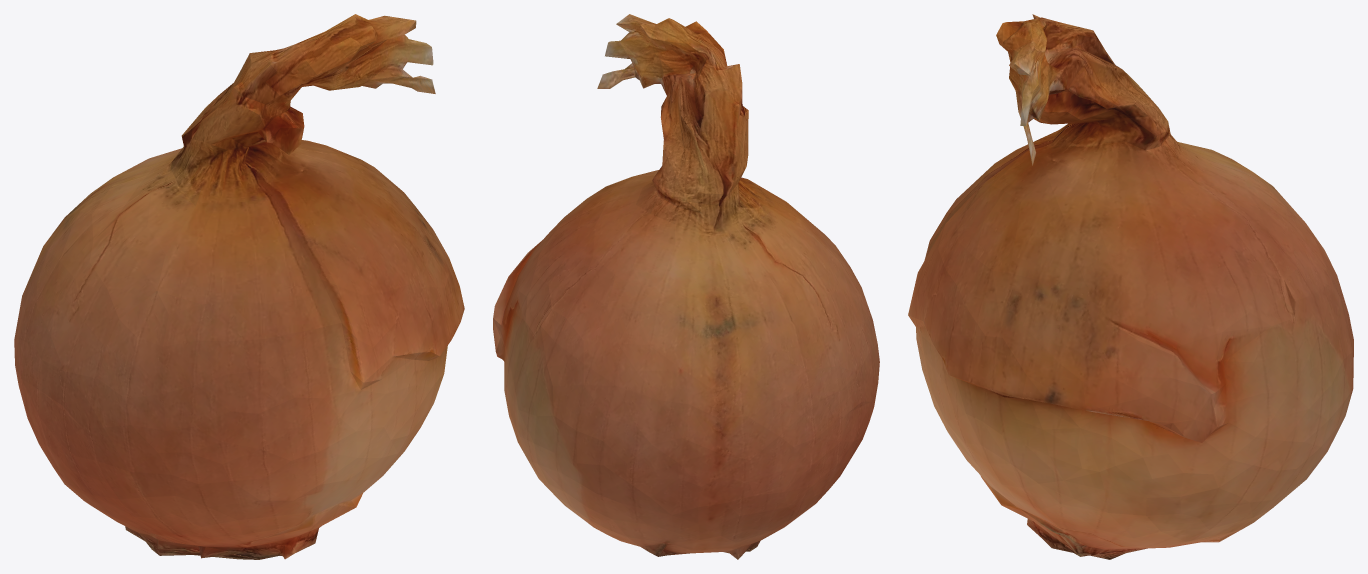
Rendered from realonion.glb.
3 renders of one model, left to right at view 1: azimuth 30°, elevation 25°; view 2: azimuth 150°, elevation 25°; view 3: azimuth 270°, elevation 25°, orthographic. The views are drawn at different scales.
Visible parts, largest first — view 1: Object_2; view 2: Object_2; view 3: Object_2.
Boxes of the visible parts, x1,y1,x2,y2 form: Object_2: [14, 14, 464, 559]; Object_2: [493, 14, 879, 559]; Object_2: [908, 14, 1353, 559].
Size of the model in its own units: 0.0582 by 0.08 by 0.0573.
1 material, 1 textured.
